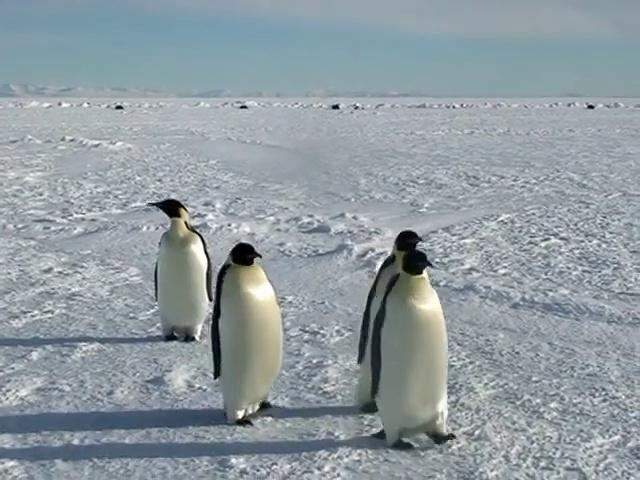animal: (374, 251, 455, 447)
